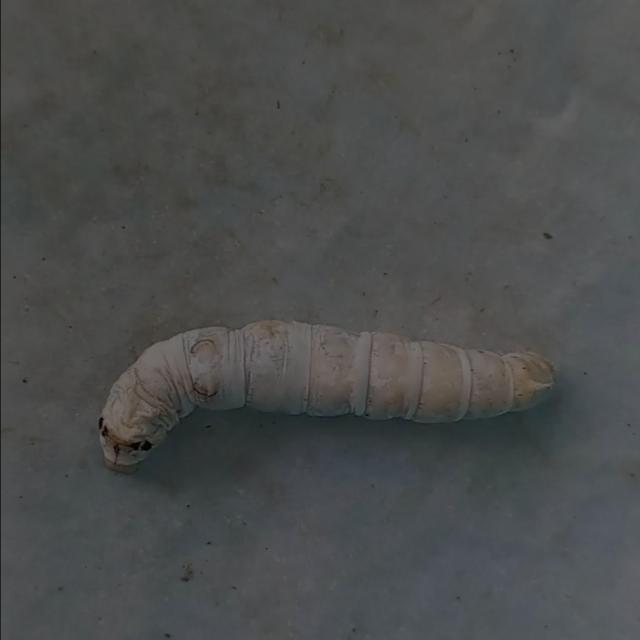Grasserie: (89, 302, 570, 479)
